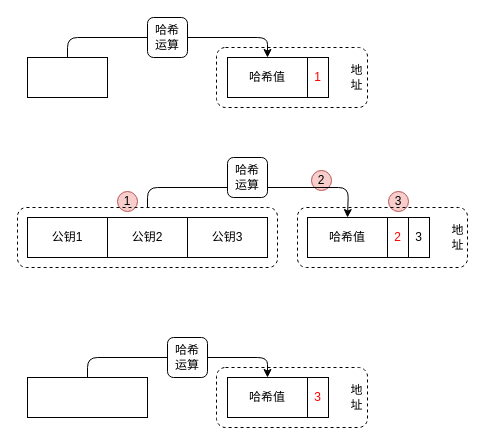
Image size: 495x445. Some labels were removed from this diagram. Each missing label, with the centre of its shape:
公钥: (x=67, y=77)
公钥脚本: (x=87, y=397)
